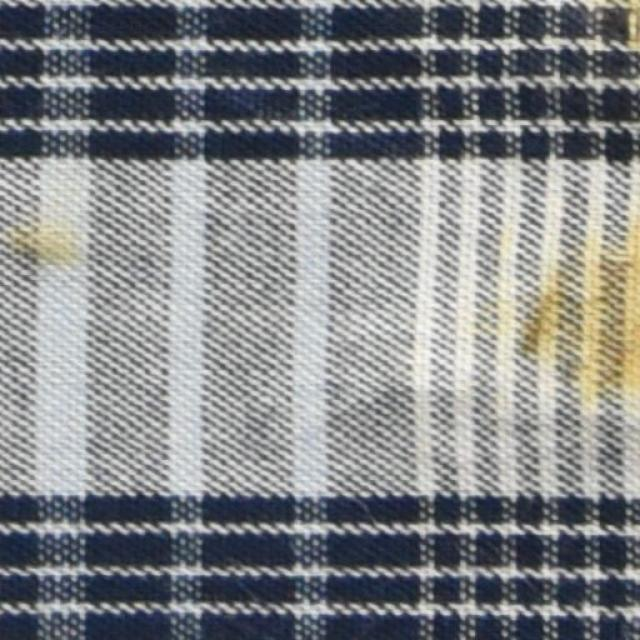Stain: (522, 224, 639, 408)
